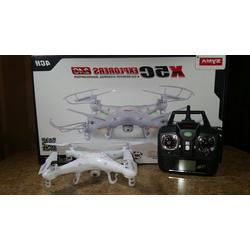drone: (48, 84, 197, 140), (39, 141, 148, 189)
